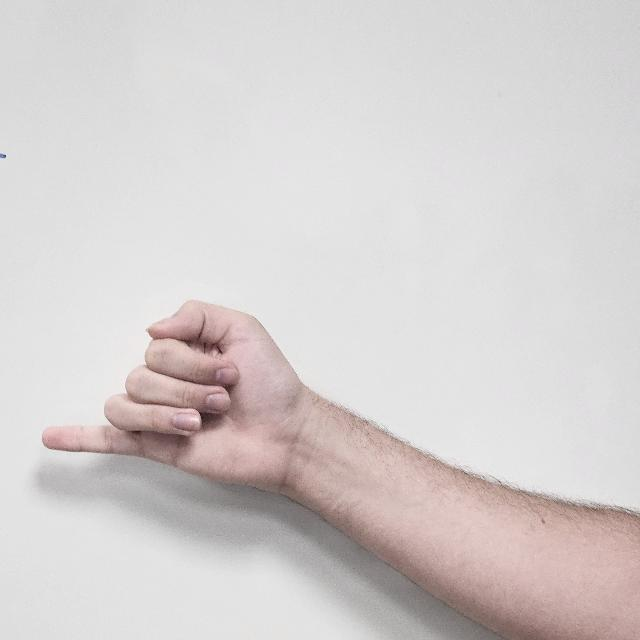Esquerda: (39, 280, 345, 498)
